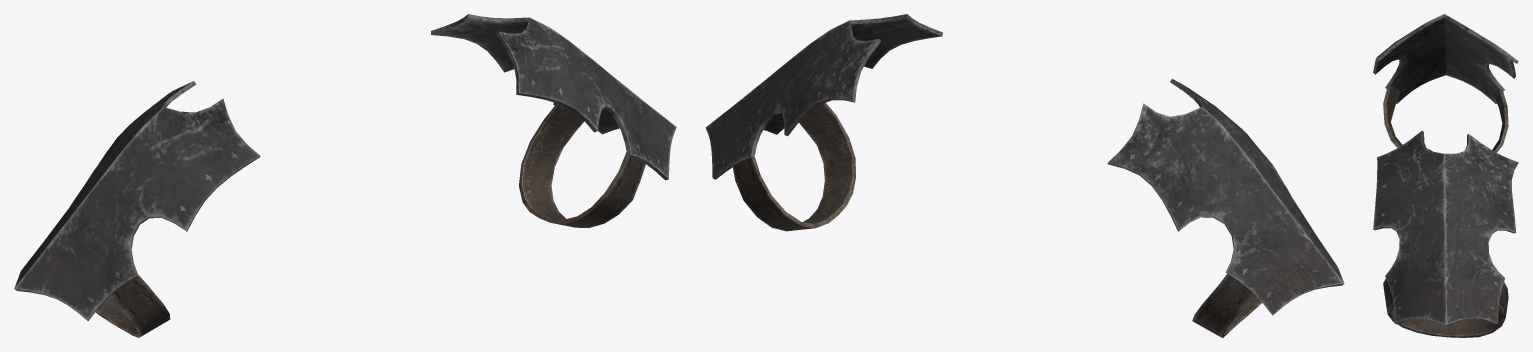
File: sk_uruk_mordor_pauldron_medium_c.fbx
3 views of the same model, side by side, from view 1: azimuth 30°, elevation 25°; view 2: azimuth 150°, elevation 25°; view 3: azimuth 270°, elevation 25° (orthographic). The views are drawn at different scales.
Visible parts, largest first — view 1: sk_uruk_mordor_pauldron_medium_c.1, sk_uruk_mordor_pauldron_medium_c.0; view 2: sk_uruk_mordor_pauldron_medium_c.1, sk_uruk_mordor_pauldron_medium_c.0; view 3: sk_uruk_mordor_pauldron_medium_c.1, sk_uruk_mordor_pauldron_medium_c.0.
Part boxes in pixels (bbox=[...]): sk_uruk_mordor_pauldron_medium_c.1: bbox=[14, 14, 676, 320]; sk_uruk_mordor_pauldron_medium_c.0: bbox=[95, 104, 645, 337]; sk_uruk_mordor_pauldron_medium_c.1: bbox=[705, 14, 1344, 315]; sk_uruk_mordor_pauldron_medium_c.0: bbox=[733, 102, 1262, 337]; sk_uruk_mordor_pauldron_medium_c.1: bbox=[1373, 14, 1518, 325]; sk_uruk_mordor_pauldron_medium_c.0: bbox=[1383, 86, 1508, 337].
Size of the model in its own units: 0.8939 by 0.2176 by 0.2886.
Materials: 2 (2 with a texture image).
